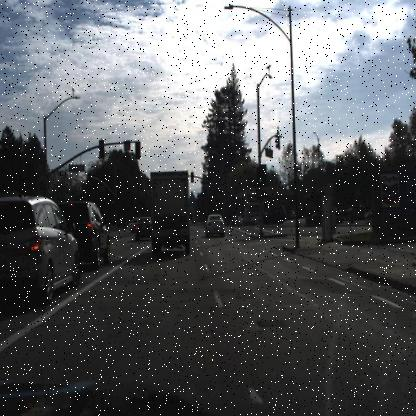car: (0, 196, 81, 310), (72, 198, 110, 268), (305, 201, 346, 226), (132, 212, 153, 244), (205, 209, 226, 237), (265, 205, 292, 226), (134, 216, 154, 243), (248, 209, 264, 230), (126, 216, 139, 237)
trafficLight-Green: (259, 164, 267, 186)
truck: (145, 166, 190, 266)
